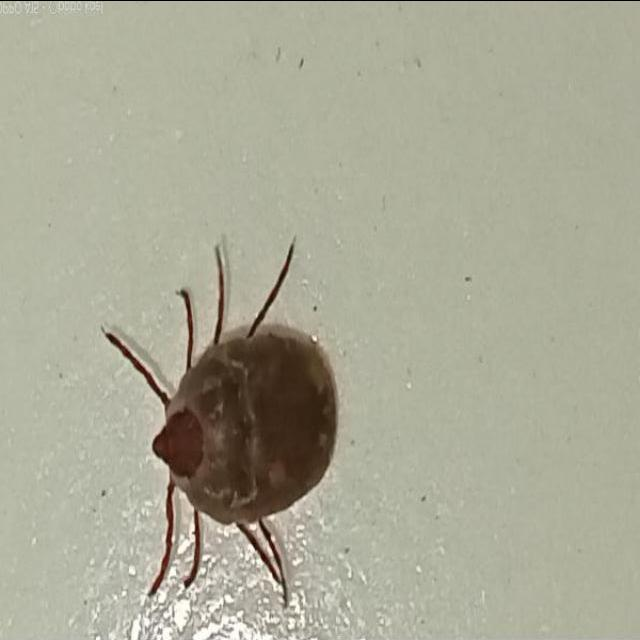Rhipicephalus Sanguineus-F-Fed: (109, 235, 340, 597)
